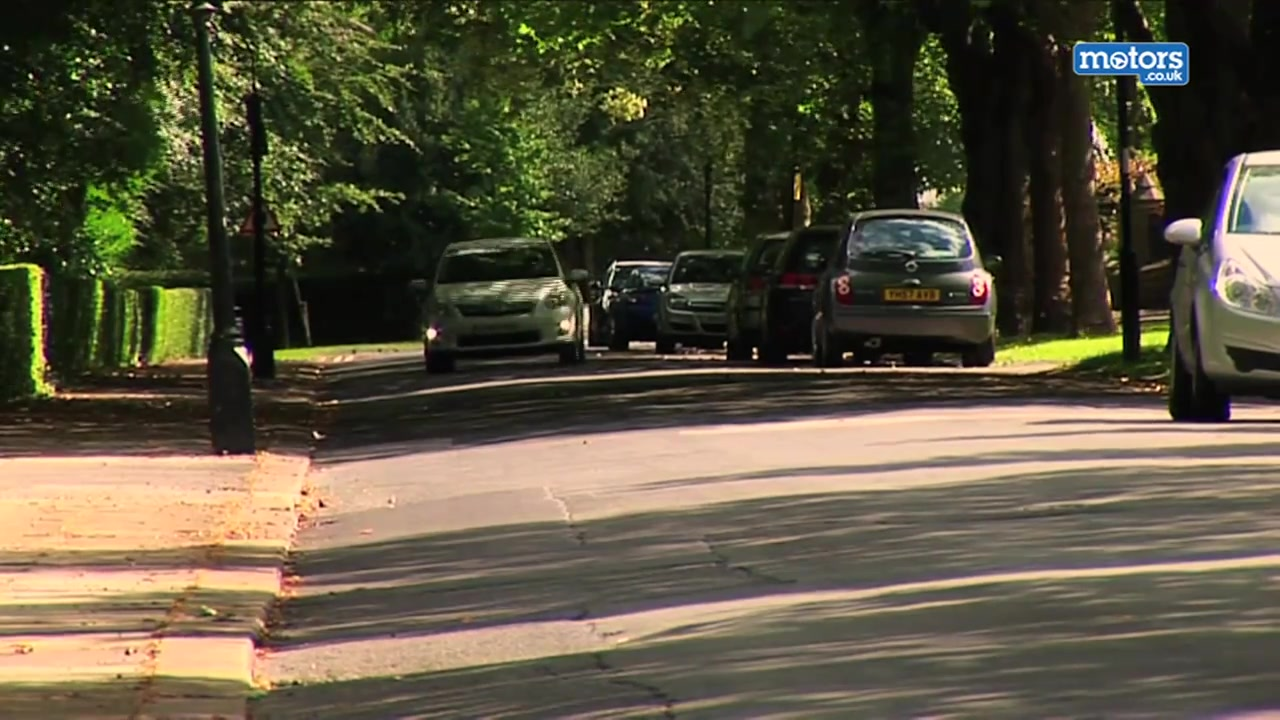car: (808, 209, 1010, 372), (1166, 147, 1280, 425), (413, 238, 592, 367), (762, 219, 855, 361), (721, 229, 794, 369), (659, 246, 747, 349), (593, 259, 676, 352)
